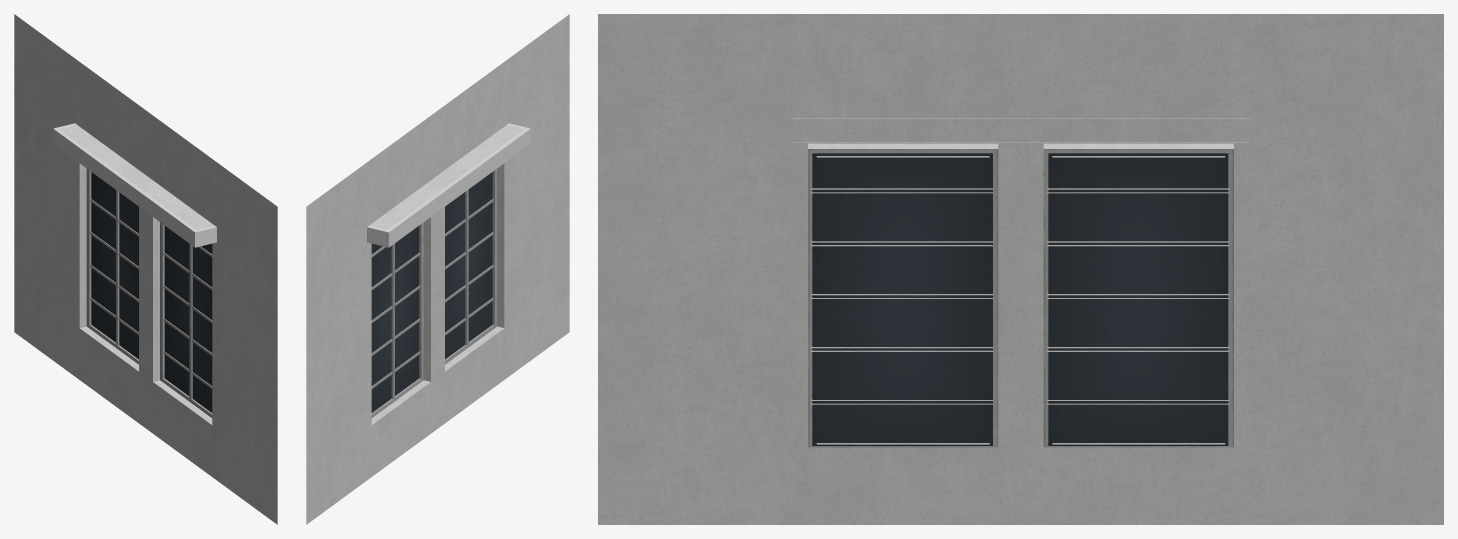
File: MB_Wall_Window_A_15.fbx
The picture shows the model from 3 angles, left to right: view 1: azimuth 30°, elevation 25°; view 2: azimuth 150°, elevation 25°; view 3: azimuth 270°, elevation 25°; orthographic projection. The views are drawn at different scales.
Parts seen in each view (by area): view 1: MB_Wall_Window_A_15; view 2: MB_Wall_Window_A_15; view 3: MB_Wall_Window_A_15.
Part boxes in pixels (left/top/right/bottom): MB_Wall_Window_A_15: left=14, top=14, right=277, bottom=524; MB_Wall_Window_A_15: left=306, top=14, right=569, bottom=524; MB_Wall_Window_A_15: left=598, top=14, right=1443, bottom=524.
Bounding box in the file's own units: 42.92 × 400 × 600.
